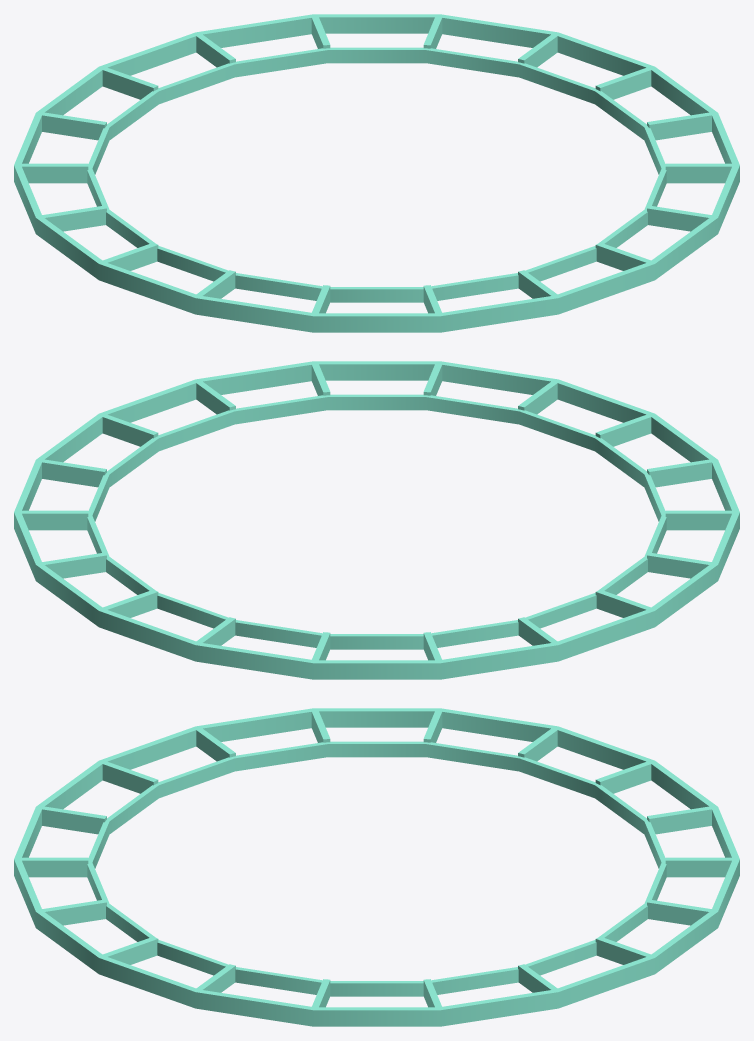
Rendered from Rail.FBX.
The picture shows the model from 3 angles, top to bottom: view 1: azimuth 30°, elevation 25°; view 2: azimuth 150°, elevation 25°; view 3: azimuth 270°, elevation 25°; orthographic projection.
Visible parts, largest first — view 1: Tube001, Tube002, Box004, Box013, Box012, Box005, Box003, Box014, Box006, Box011, Box015, Box002 (+4 smaller); view 2: Tube001, Tube002, Box007, Box016, Box006, Box017, Box015, Box008, Box005, Box018, Box014, Box009 (+4 smaller); view 3: Tube001, Tube002, Box010, Box001, Box011, Box018, Box009, Box002, Box012, Box017, Box003, Box008 (+4 smaller).
Part boxes in pixels (bbox=[...]): Tube001: bbox=[14, 14, 739, 332]; Tube002: bbox=[87, 47, 666, 302]; Box004: bbox=[665, 163, 738, 183]; Box013: bbox=[15, 163, 88, 183]; Box012: bbox=[37, 111, 106, 140]; Box005: bbox=[647, 112, 717, 140]; Box003: bbox=[647, 205, 717, 231]; Box014: bbox=[36, 205, 106, 231]; Box006: bbox=[595, 66, 655, 99]; Box011: bbox=[98, 66, 158, 99]; Box015: bbox=[98, 242, 158, 270]; Box002: bbox=[595, 242, 652, 270]; Tube001: bbox=[14, 361, 739, 679]; Tube002: bbox=[87, 394, 666, 649]; Box007: bbox=[21, 510, 88, 530]; Box016: bbox=[665, 510, 732, 530]; Box006: bbox=[38, 458, 106, 487]; Box017: bbox=[647, 459, 716, 487]; Box015: bbox=[647, 552, 717, 578]; Box008: bbox=[36, 552, 106, 578]; Box005: bbox=[98, 413, 158, 446]; Box018: bbox=[595, 414, 651, 446]; Box014: bbox=[595, 589, 655, 617]; Box009: bbox=[103, 589, 158, 617]; Tube001: bbox=[14, 708, 739, 1026]; Tube002: bbox=[87, 741, 666, 996]; Box010: bbox=[665, 857, 738, 877]; Box001: bbox=[21, 857, 88, 877]; Box011: bbox=[647, 806, 716, 834]; Box018: bbox=[36, 805, 106, 834]; Box009: bbox=[647, 899, 717, 925]; Box002: bbox=[37, 899, 106, 925]; Box012: bbox=[595, 760, 654, 793]; Box017: bbox=[100, 760, 158, 793]; Box003: bbox=[100, 936, 158, 964]; Box008: bbox=[595, 936, 652, 964].
Size of the model in its own units: 197 by 5 by 200.
